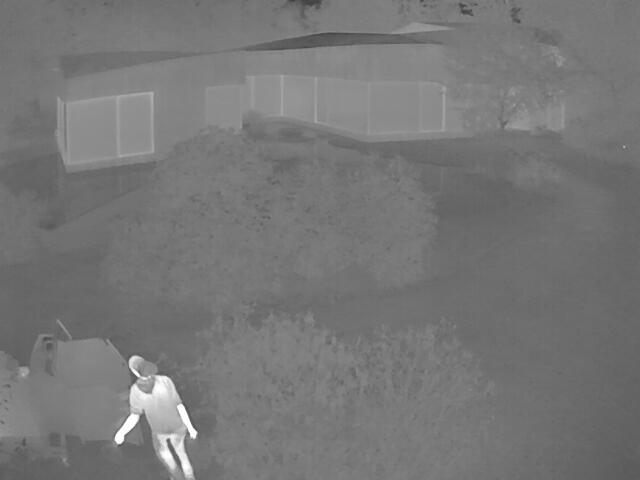person: (113, 353, 196, 477)
